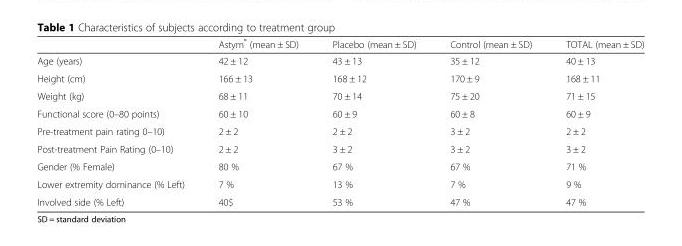table: (36, 36, 643, 207)
table column: (36, 36, 200, 207), (314, 36, 432, 207), (432, 36, 548, 207), (200, 36, 314, 207), (548, 36, 643, 207)
table column header: (36, 36, 643, 52)
table row: (36, 86, 643, 104), (36, 104, 643, 122), (36, 139, 643, 157), (36, 157, 643, 175), (36, 52, 643, 69), (36, 69, 643, 86), (36, 122, 643, 139), (36, 175, 643, 192), (36, 36, 643, 52), (36, 192, 643, 207)
